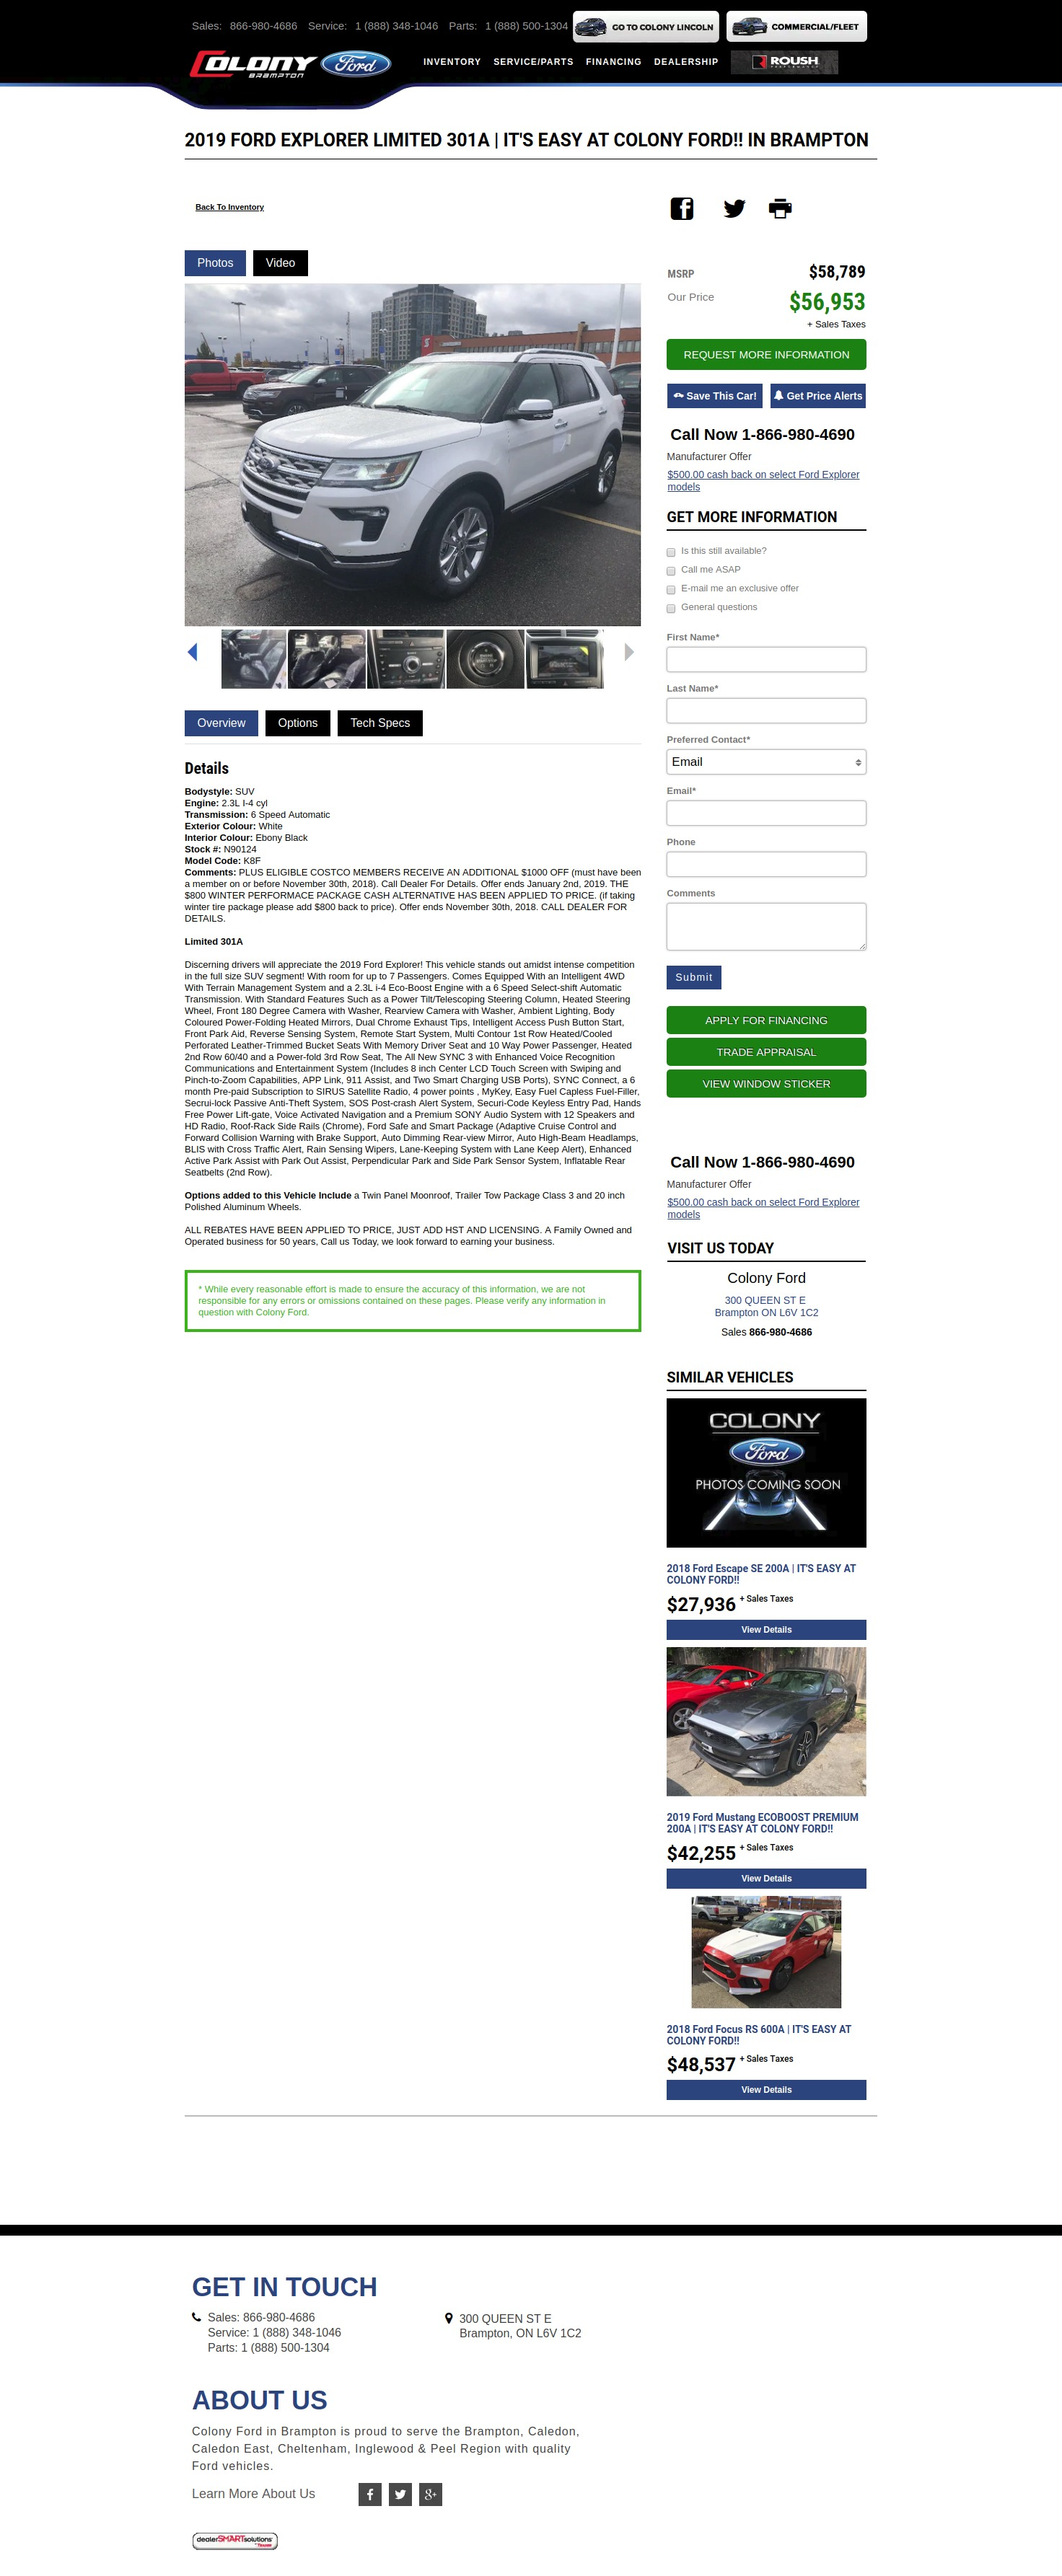car: (625, 642, 636, 662)
